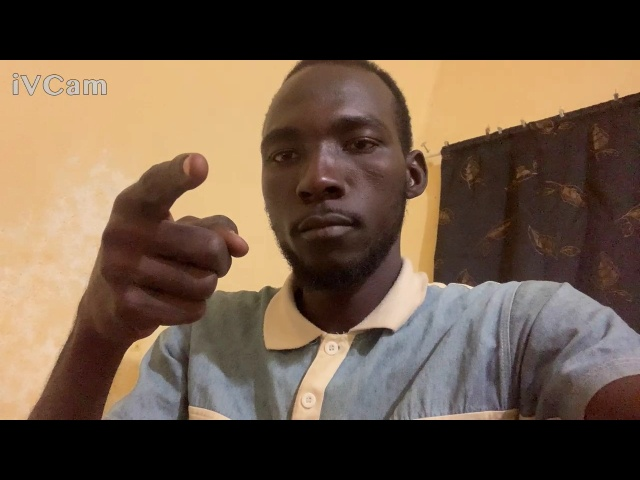tu: (73, 134, 257, 354)
